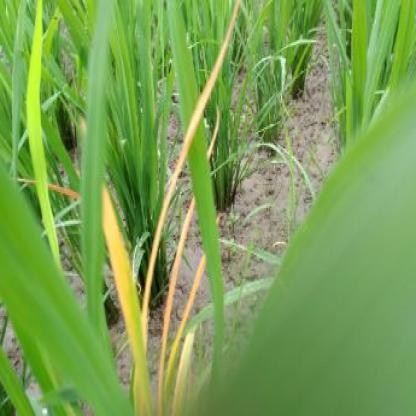Tungro: (134, 1, 217, 392)
